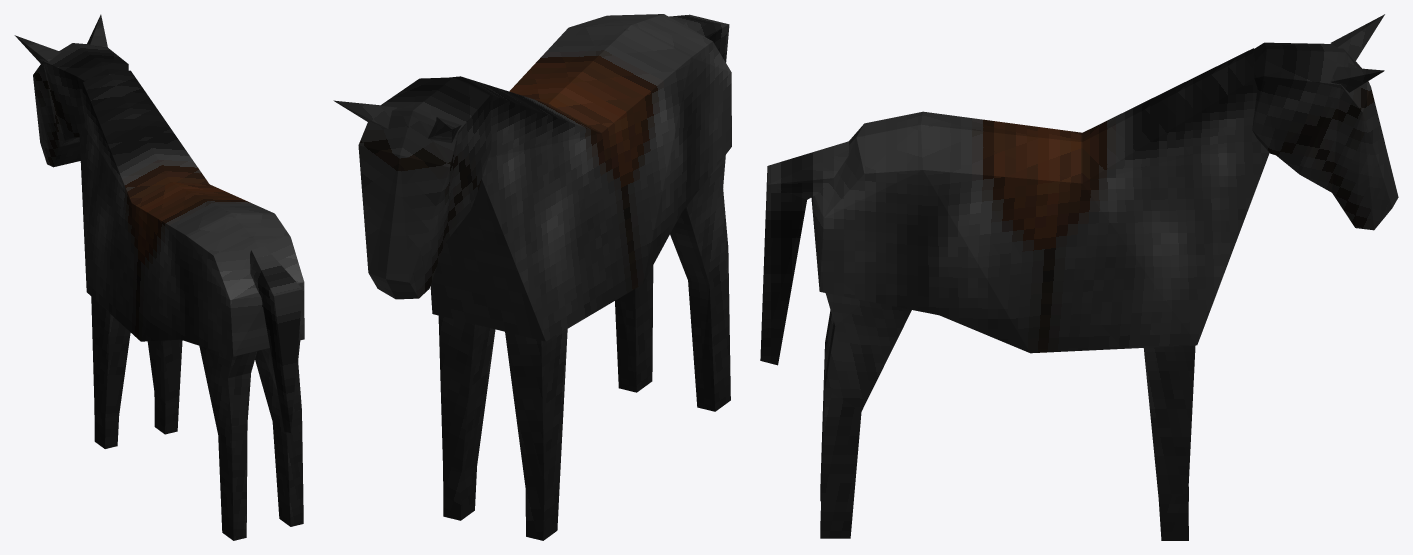
File: Horse_Horse_Black_Saddled.glb
The picture shows the model from 3 angles, left to right: view 1: azimuth 30°, elevation 25°; view 2: azimuth 150°, elevation 25°; view 3: azimuth 270°, elevation 25°; orthographic projection. The views are drawn at different scales.
Parts seen in each view (by area): view 1: Body, Head, Leg3, Leg4, Leg1, Leg2; view 2: Body, Head, Leg3, Leg1, Leg2, Leg4; view 3: Body, Head, Leg4, Leg2.
Part boxes in pixels (x1,y1,x2,y2): Body: [79, 69, 304, 432]; Head: [14, 14, 128, 167]; Leg3: [199, 346, 257, 540]; Leg4: [255, 340, 303, 526]; Leg1: [91, 297, 130, 448]; Leg2: [147, 339, 182, 434]; Body: [430, 14, 731, 341]; Head: [333, 77, 491, 299]; Leg3: [670, 155, 730, 411]; Leg1: [505, 329, 567, 540]; Leg2: [438, 315, 495, 520]; Leg4: [615, 265, 653, 392]; Body: [760, 48, 1269, 365]; Head: [1252, 14, 1398, 230]; Leg4: [820, 293, 911, 538]; Leg2: [1143, 345, 1195, 540].
Size of the model in its own units: 0.4986 by 1.71 by 2.08.
Materials: 1 (1 with a texture image).
